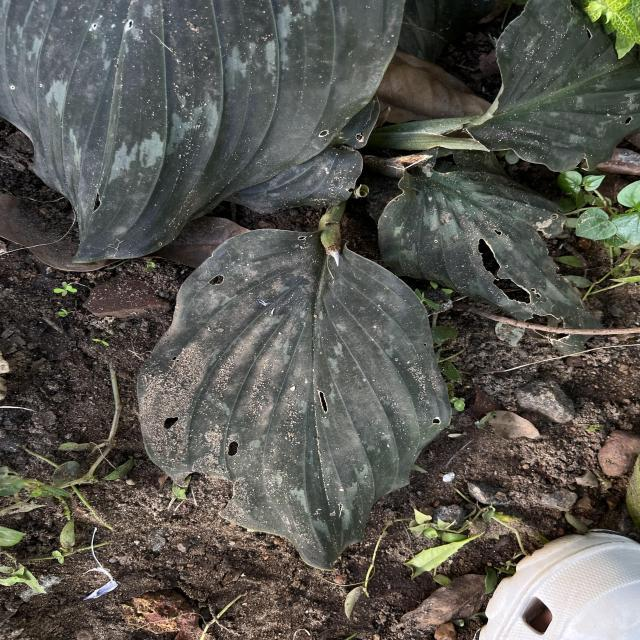Kaempferia galanga linn: (133, 226, 454, 574)
